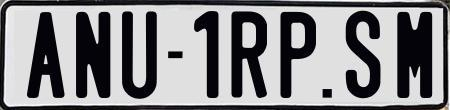1: (192, 8, 218, 101)
A: (27, 10, 70, 102)
M: (396, 11, 434, 102)
N: (74, 12, 112, 103)
P: (278, 11, 317, 97)
R: (230, 11, 270, 98)
S: (345, 11, 381, 104)
U: (122, 8, 160, 102)
